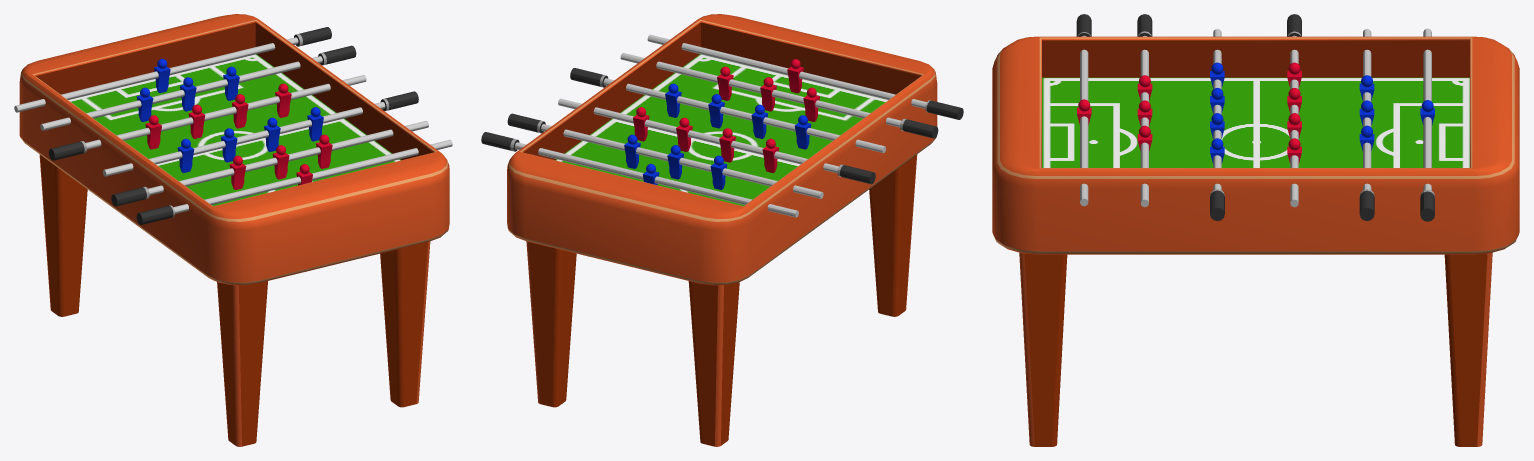
Rendered from FoosballTable.fbx.
The picture shows the model from 3 angles, left to right: view 1: azimuth 30°, elevation 25°; view 2: azimuth 150°, elevation 25°; view 3: azimuth 270°, elevation 25°; orthographic projection. The views are drawn at different scales.
Visible parts, largest first — view 1: Foosball, Foosball.008, Foosball.004, Foosball.005, Foosball.006, Foosball.003, Foosball.002, Foosball.007; view 2: Foosball, Foosball.008, Foosball.004, Foosball.005, Foosball.003, Foosball.006, Foosball.007, Foosball.002; view 3: Foosball, Foosball.008, Foosball.005, Foosball.004, Foosball.003, Foosball.006, Foosball.002, Foosball.007.
Part boxes in pixels (x1,y1,x2,y2): Foosball: [19, 14, 449, 446]; Foosball.008: [68, 54, 400, 206]; Foosball.004: [49, 75, 366, 160]; Foosball.005: [103, 91, 418, 176]; Foosball.006: [111, 120, 428, 206]; Foosball.003: [40, 45, 356, 130]; Foosball.002: [14, 27, 331, 112]; Foosball.007: [136, 140, 452, 224]; Foosball: [507, 14, 937, 446]; Foosball.008: [555, 54, 888, 206]; Foosball.004: [558, 98, 875, 184]; Foosball.005: [570, 68, 885, 152]; Foosball.003: [507, 113, 823, 198]; Foosball.006: [620, 53, 938, 138]; Foosball.007: [647, 34, 963, 119]; Foosball.002: [481, 132, 798, 217]; Foosball: [992, 36, 1519, 446]; Foosball.008: [1042, 77, 1469, 167]; Foosball.005: [1210, 29, 1224, 220]; Foosball.004: [1287, 14, 1301, 207]; Foosball.003: [1359, 29, 1374, 220]; Foosball.006: [1137, 14, 1152, 207]; Foosball.002: [1420, 28, 1434, 221]; Foosball.007: [1076, 14, 1091, 206].
Size of the model in its own units: 455 by 320 by 522.
Materials: 10 (1 with a texture image).
